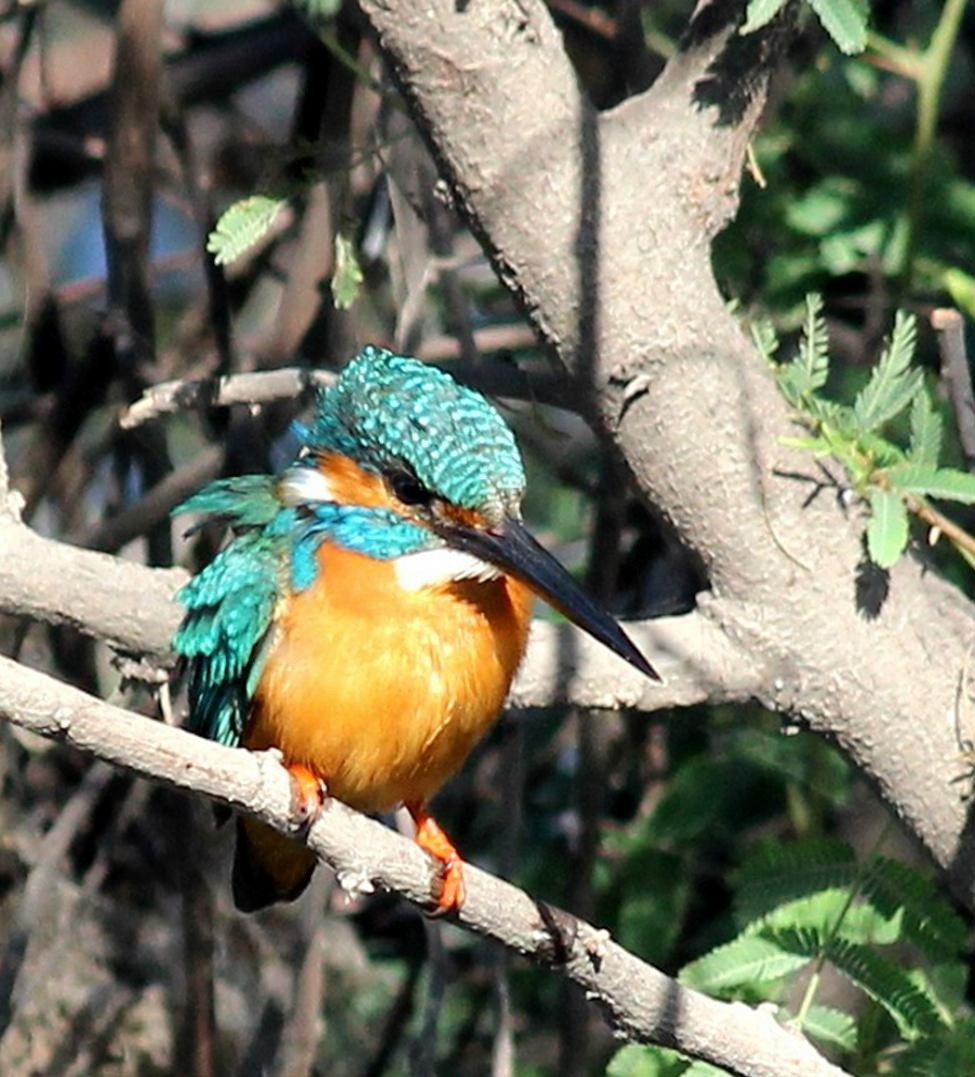kingfisher: (191, 329, 673, 936)
